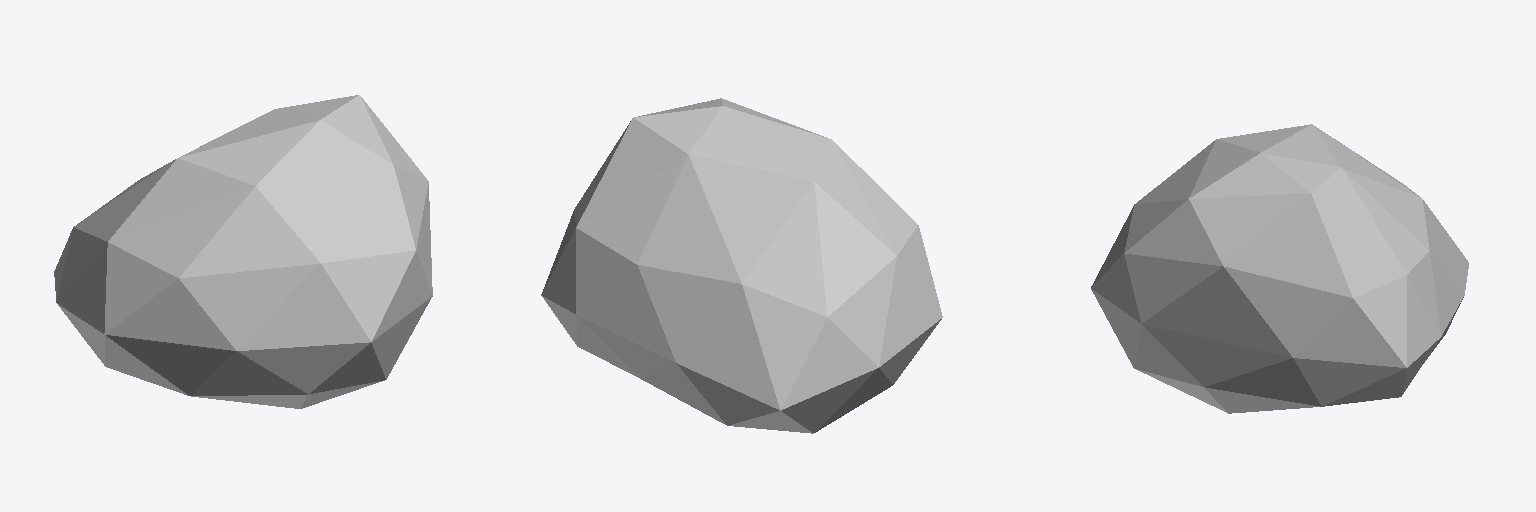
File: rock.obj
3 views of the same model, side by side, from view 1: azimuth 30°, elevation 25°; view 2: azimuth 150°, elevation 25°; view 3: azimuth 270°, elevation 25° (orthographic).
Bounding box in the file's own units: 2.71 × 2.06 × 2.72.